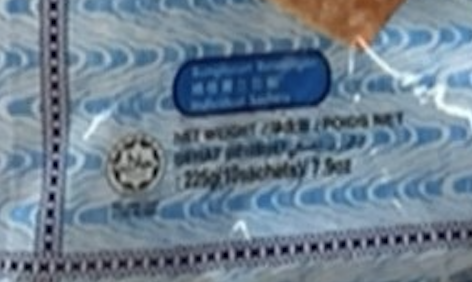halal: (119, 146, 159, 177)
